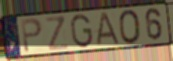6: (144, 7, 164, 43)
A: (94, 12, 121, 48)
G: (69, 13, 94, 50)
O: (118, 8, 143, 45)
P: (20, 17, 44, 55)
Z: (44, 15, 71, 52)
